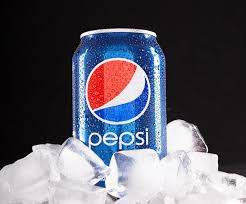Pepsi: (62, 30, 171, 163)
